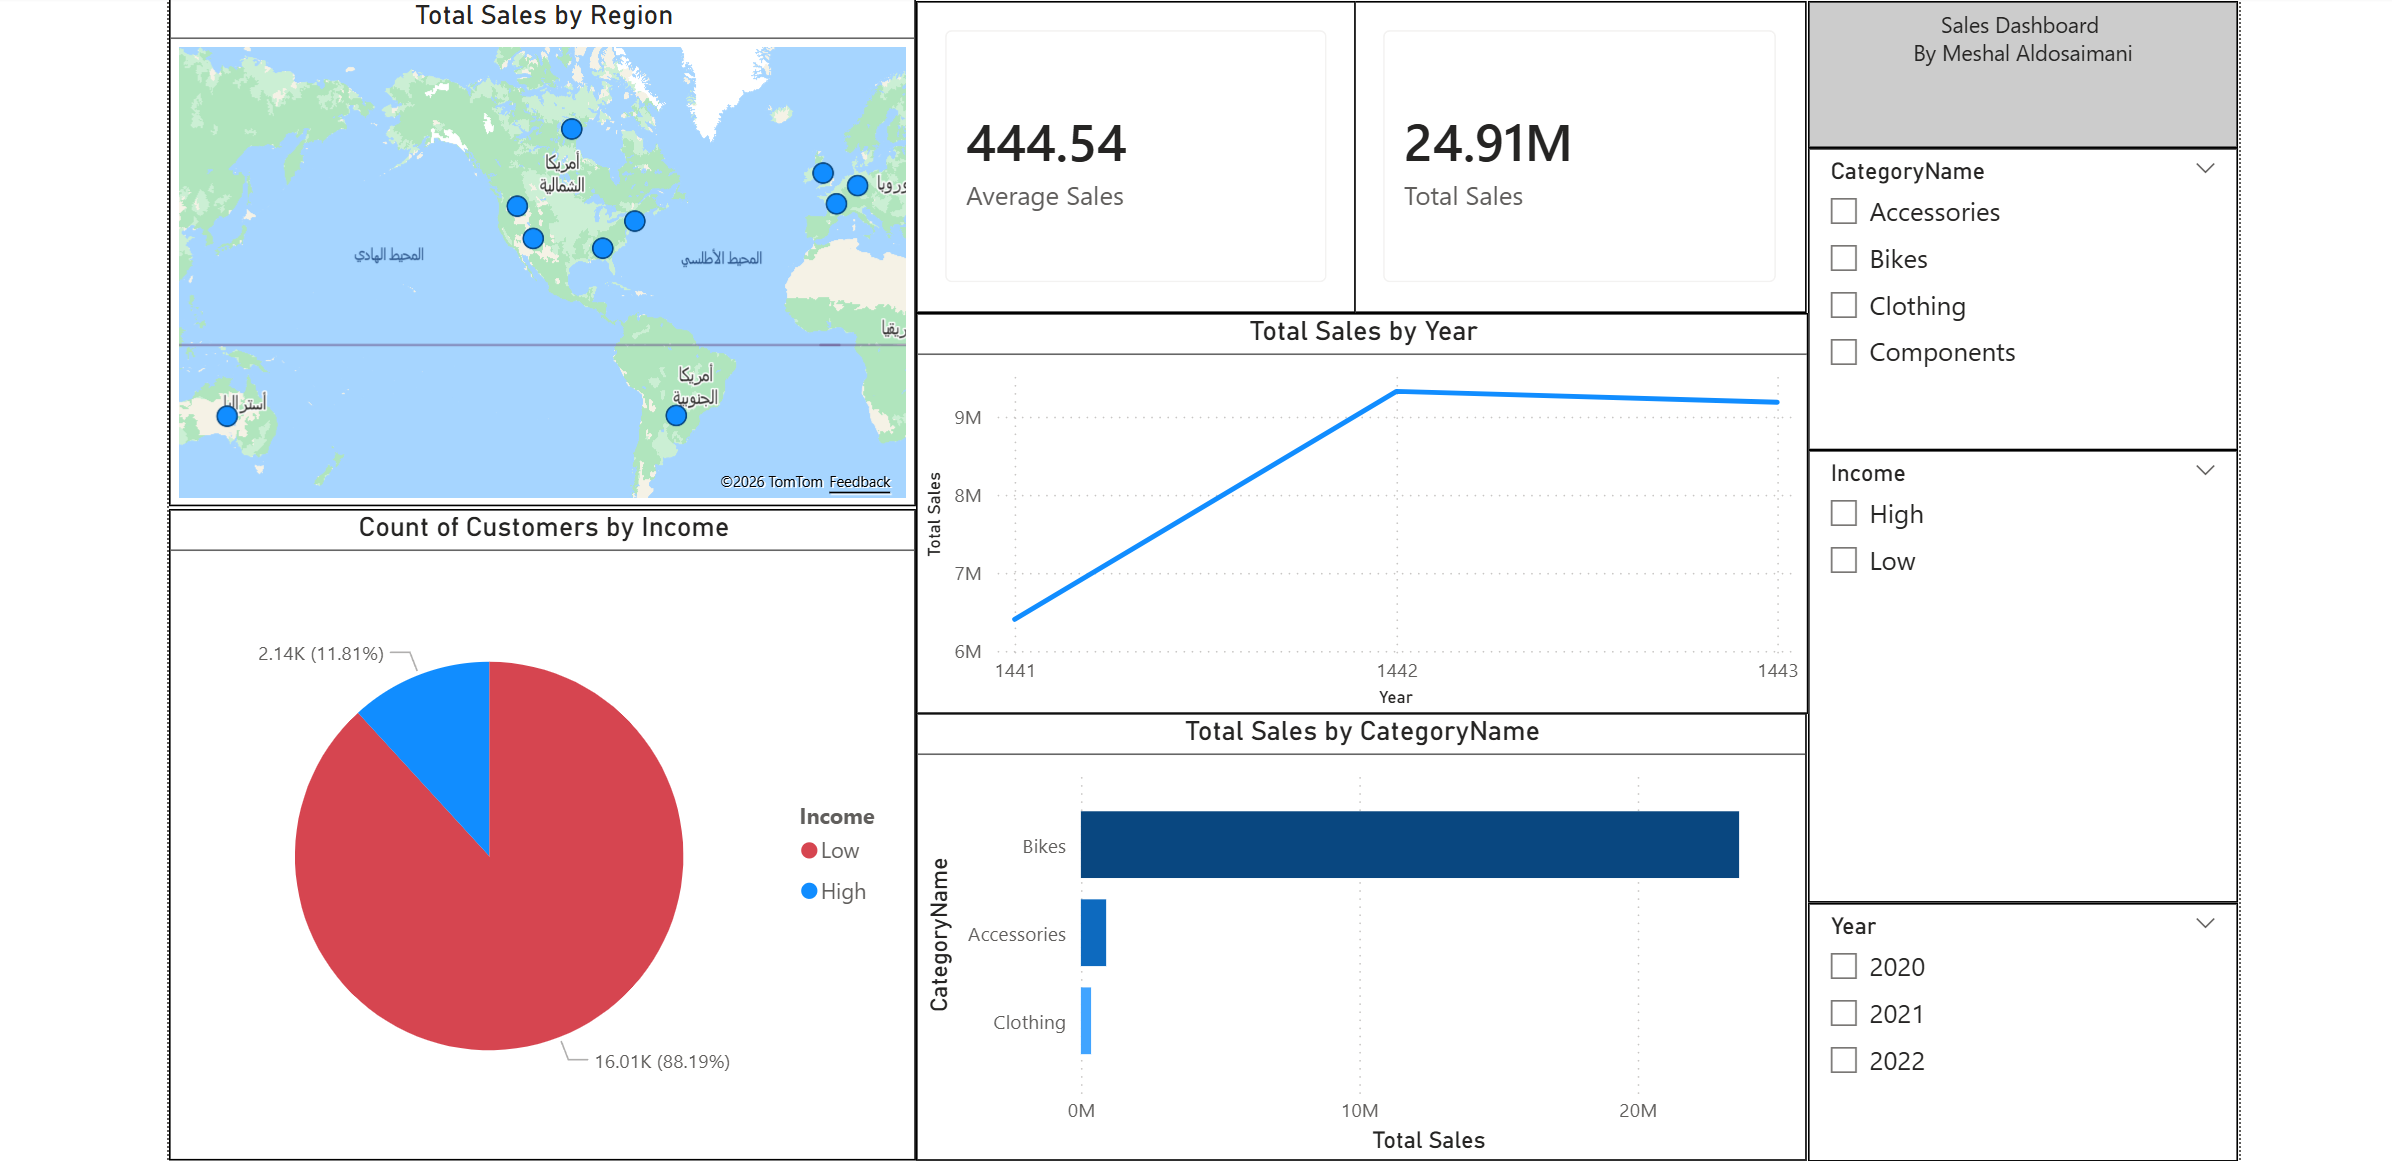

What the dashboard file says about the page in this screenshot:
{"tool":"powerbi","page":{"name":"Sales Dashboard","canvas":[1280,720],"ordinal":0},"visuals":[{"type":"cardVisual","fields":{"Data":["Product Lookup.Total Sales"]},"box":[733,2.5,279.6,193],"z":0},{"type":"cardVisual","fields":{"Data":["Product Lookup.Average Sales"]},"box":[462.1,2.5,272.2,193],"z":1000},{"type":"clusteredBarChart","fields":{"Y":["Product Lookup.Total Sales"],"Category":["Product Categories Lookup.CategoryName"]},"box":[462.1,442.9,550.5,277.1],"z":2000},{"type":"pieChart","title":"Count of Customers by Income","fields":{"Y":["CountNonNull(Customer Lookup.CustomerKey)"],"Category":["Customer Lookup.Income"]},"box":[0,316.7,462.1,403.3],"z":3000},{"type":"azureMap","fields":{"Category":["Territory Lookup.Region"],"Size":["Product Lookup.Total Sales"]},"box":[0,0,462.1,315.5],"z":4000},{"type":"slicer","fields":{"Values":["Calendar Lookup.Date.Variation.Date Hierarchy.Year"]},"box":[1013.8,560.4,266,159.6],"z":5000},{"type":"slicer","fields":{"Values":["Product Categories Lookup.CategoryName"]},"box":[1013.8,93.4,266,186.8],"z":6000},{"type":"slicer","fields":{"Values":["Customer Lookup.Income"]},"box":[1013.8,280.2,266,280.2],"z":7000},{"type":"lineChart","fields":{"Category":["Calendar Lookup.Date.Variation.Date Hierarchy.Year"],"Y":["Product Lookup.Total Sales"]},"box":[462.1,195.5,551.8,248],"z":7001},{"type":"textbox","box":[1013.8,2.5,266,90.9],"z":7002}]}

Visuals, with their boxes in screenshot pixels (x1, y1, x2, y2):
cardVisual - Product Lookup.Total Sales: x1=1356, y1=4, x2=1800, y2=310
cardVisual - Product Lookup.Average Sales: x1=926, y1=4, x2=1358, y2=310
clusteredBarChart - Product Lookup.Total Sales x Product Categories Lookup.CategoryName: x1=926, y1=703, x2=1800, y2=1143
"Count of Customers by Income" pieChart: x1=193, y1=503, x2=926, y2=1143
azureMap - Territory Lookup.Region x Product Lookup.Total Sales: x1=193, y1=0, x2=926, y2=501
slicer - Calendar Lookup.Date.Variation.Date Hierarchy.Year: x1=1802, y1=889, x2=2224, y2=1143
slicer - Product Categories Lookup.CategoryName: x1=1802, y1=148, x2=2224, y2=445
slicer - Customer Lookup.Income: x1=1802, y1=445, x2=2224, y2=889
lineChart - Calendar Lookup.Date.Variation.Date Hierarchy.Year x Product Lookup.Total Sales: x1=926, y1=310, x2=1802, y2=704
textbox: x1=1802, y1=4, x2=2224, y2=148
